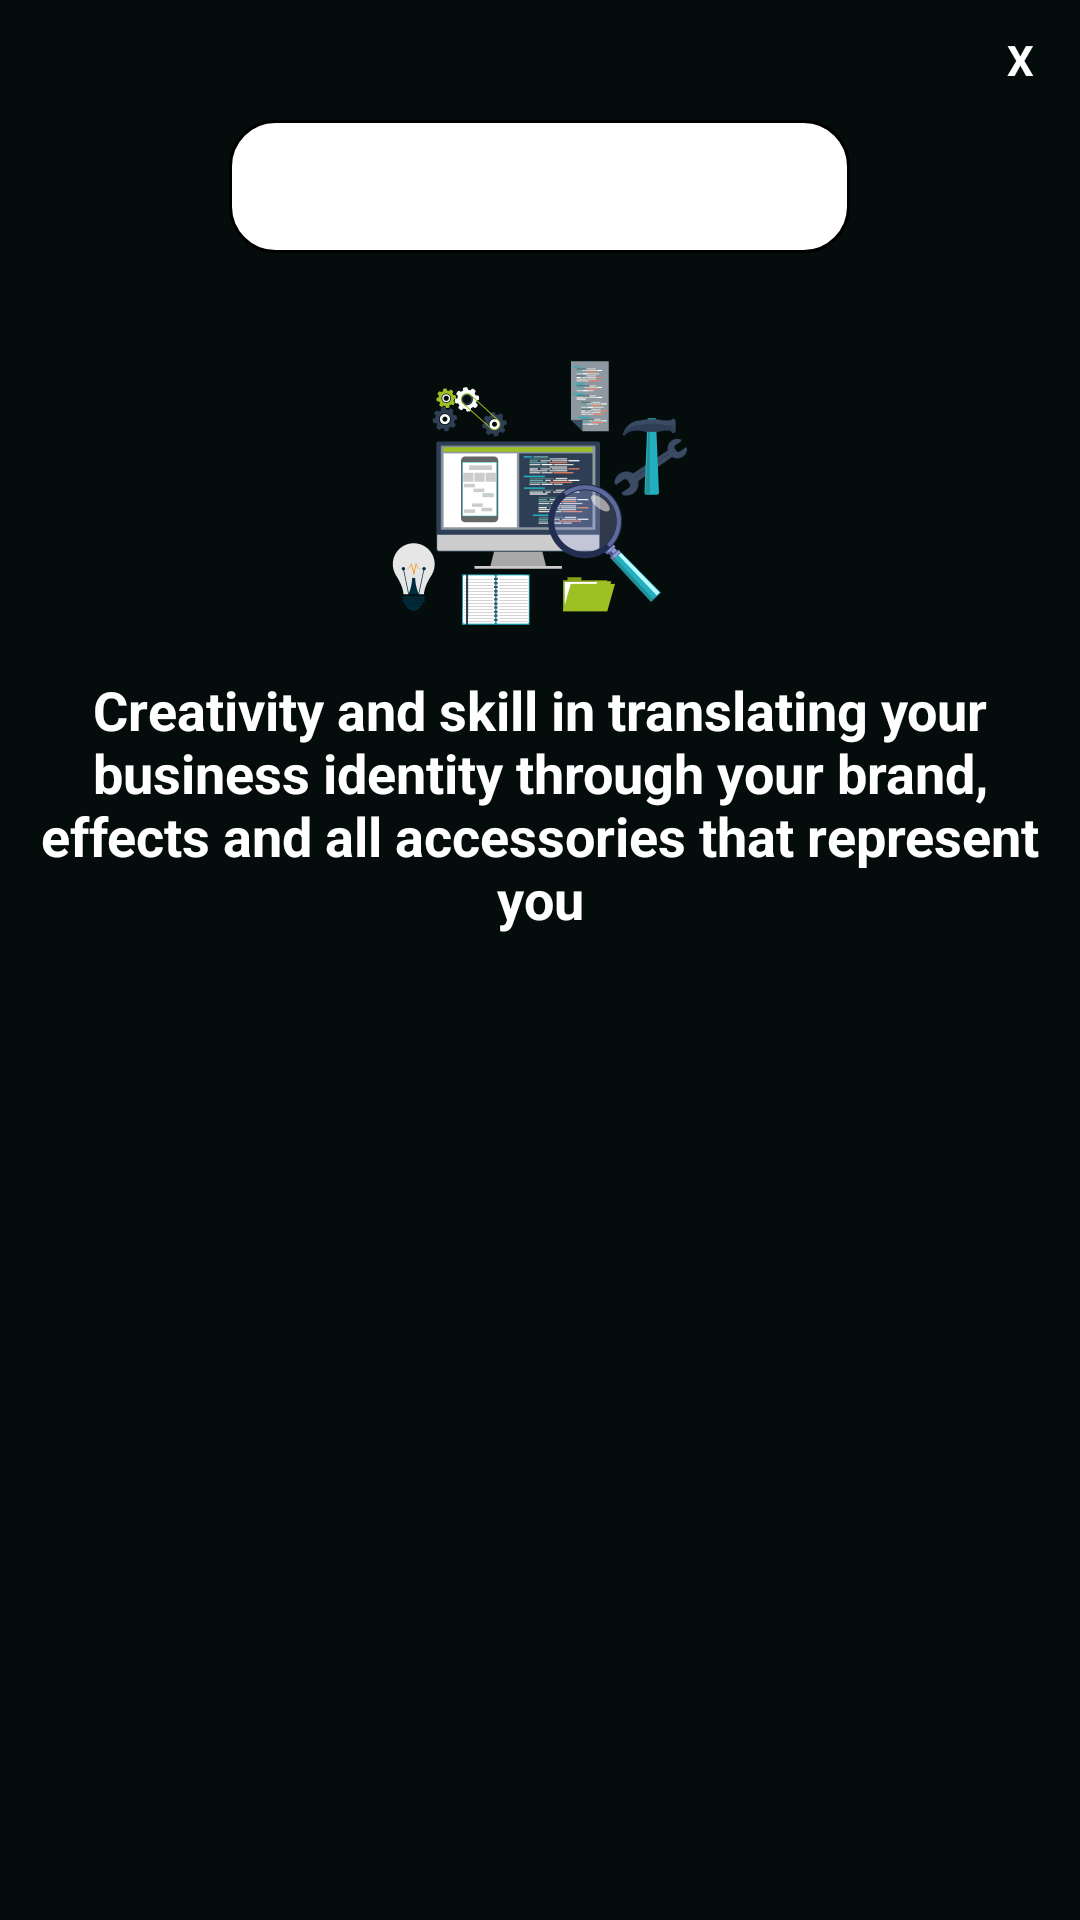

Screen size 1080px×1920px. Icon name, then its box in pixels as {"x1": x1, "y1": y1, "x2": x2, "y2": y2}:
software: {"x1": 392, "y1": 361, "x2": 687, "y2": 625}
